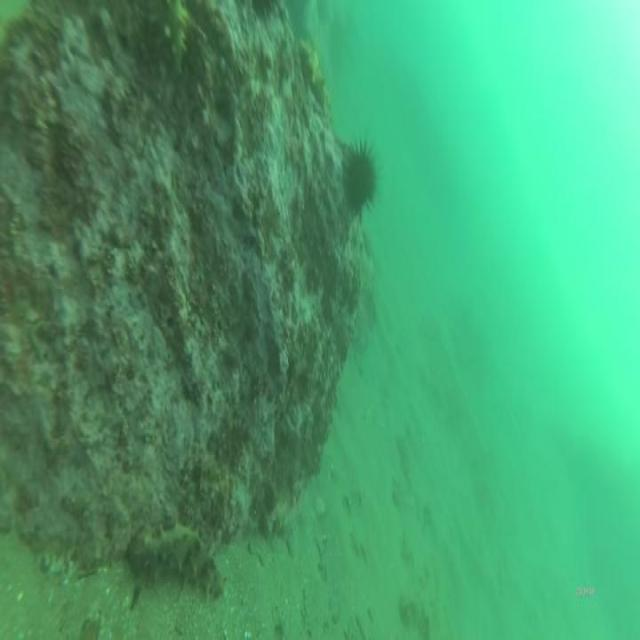echinus: (340, 130, 380, 224)
holothurian: (130, 520, 228, 602)
